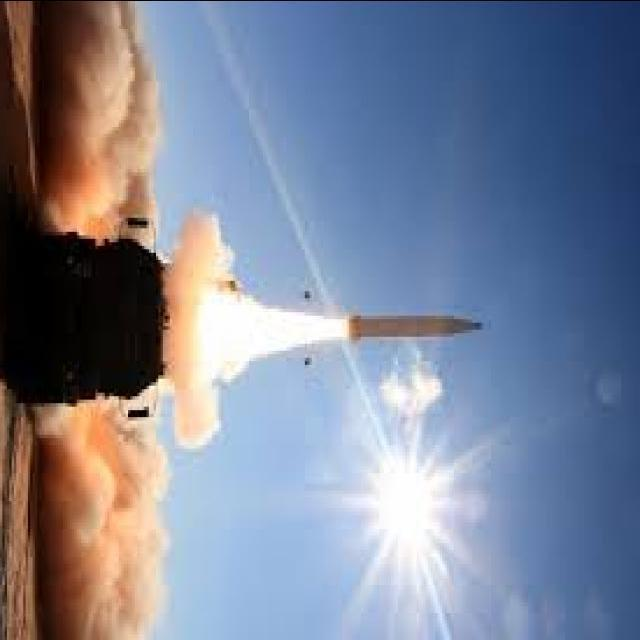Missile: (341, 300, 484, 346)
